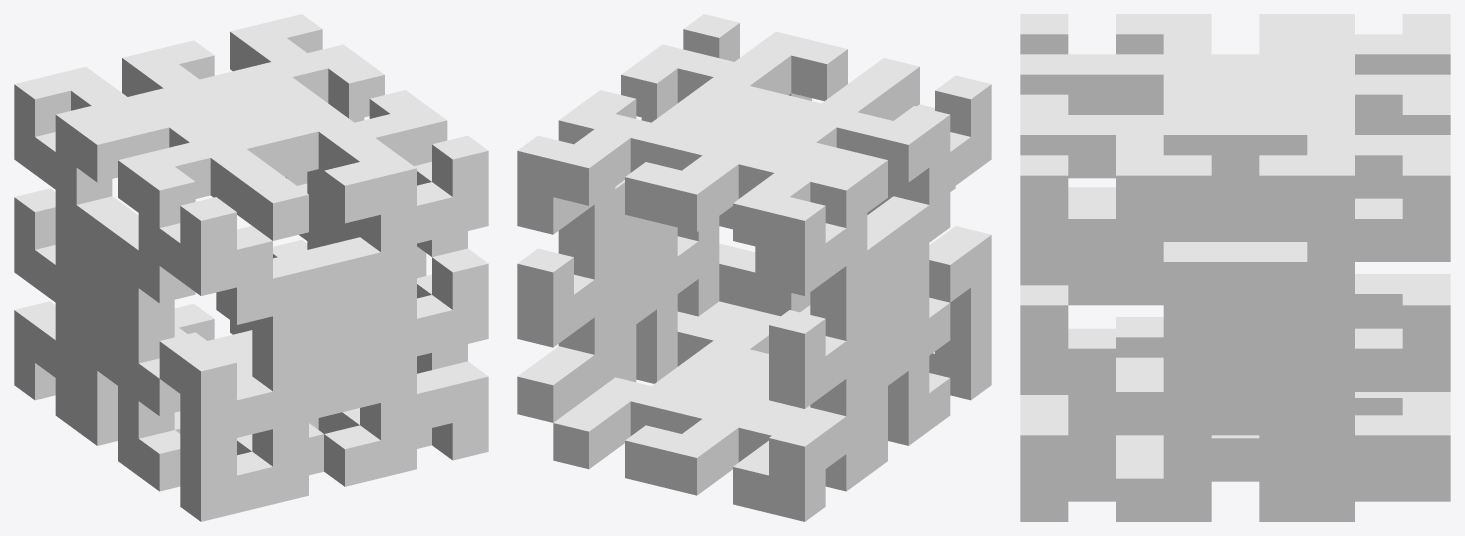
The model's file is switch_yes4.obj.
The picture shows the model from 3 angles, left to right: view 1: azimuth 30°, elevation 25°; view 2: azimuth 150°, elevation 25°; view 3: azimuth 270°, elevation 25°; orthographic projection. The views are drawn at different scales.
Size of the model in its own units: 0.8 by 0.8 by 0.9.
Materials: 1 (1 with a texture image).
